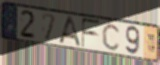2: (18, 9, 38, 41)
7: (41, 12, 57, 42)
9: (124, 26, 141, 56)
A: (58, 16, 82, 48)
C: (101, 23, 122, 52)
F: (81, 17, 101, 49)
